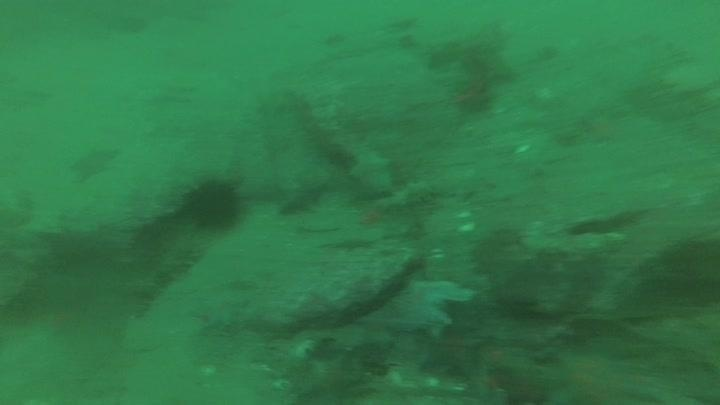echinus: (180, 173, 247, 234)
holothurian: (133, 232, 205, 300), (374, 177, 442, 212)
starfish: (542, 342, 667, 405), (380, 273, 476, 339), (416, 320, 490, 381), (293, 349, 373, 404), (190, 290, 249, 333), (67, 141, 121, 183)
